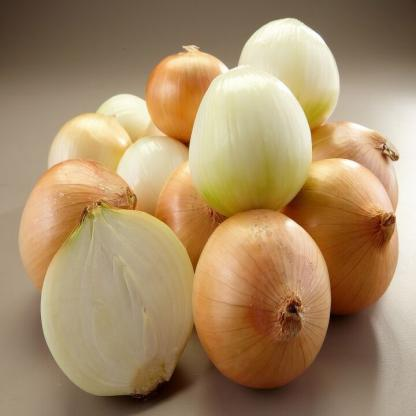onion: (53, 207, 192, 391), (202, 212, 322, 375), (202, 86, 322, 196), (307, 159, 398, 296), (244, 13, 334, 104), (147, 47, 233, 133)
